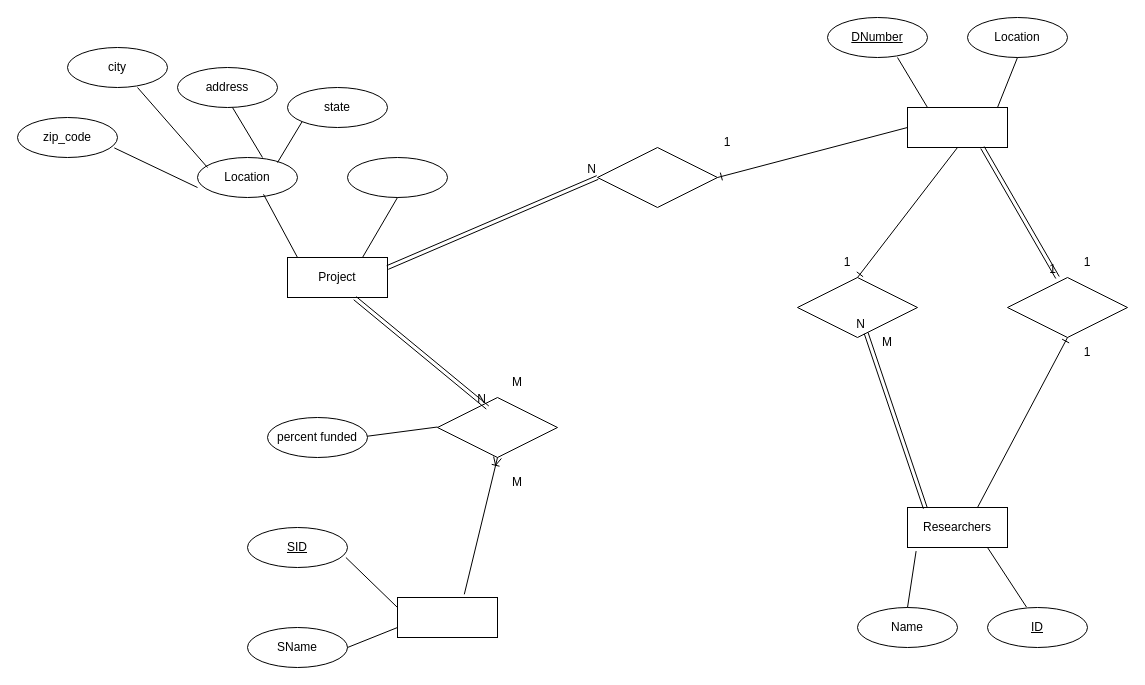
Image size: 1145x685. Some labels were removed from this diagram. Here are the shapes that lost their labels. From the top down, the centre of each, then its label:
At (x=957, y=127): "Department".
At (x=397, y=177): "PID".
At (x=657, y=177): "listed".
At (x=857, y=307): "assigned_to".
At (x=1067, y=307): "manages".
At (x=497, y=427): "fund".
At (x=447, y=617): "Sponser".
